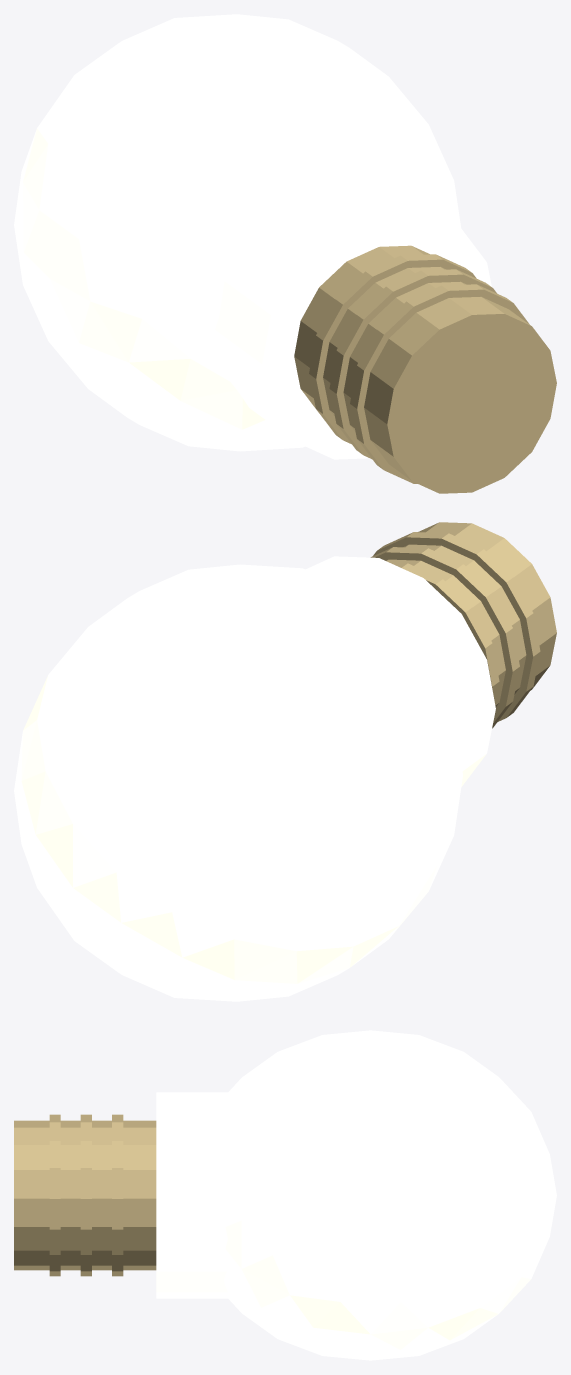
Rendered from lightbulb.glb.
The picture shows the model from 3 angles, top to bottom: view 1: azimuth 30°, elevation 25°; view 2: azimuth 150°, elevation 25°; view 3: azimuth 270°, elevation 25°; orthographic projection. The views are drawn at different scales.
Parts seen in each view (by area): view 1: bulb_glass, brass; view 2: bulb_glass, brass; view 3: bulb_glass, brass.
Boxes of the visible parts, left/top/right/bottom form: bulb_glass: left=14, top=14, right=491, bottom=459; brass: left=294, top=245, right=556, bottom=493; bulb_glass: left=14, top=556, right=495, bottom=1001; brass: left=370, top=522, right=556, bottom=728; bulb_glass: left=156, top=1030, right=556, bottom=1360; brass: left=14, top=1114, right=156, bottom=1276.
Size of the model in its own units: 0.06 by 0.06 by 0.0979.
